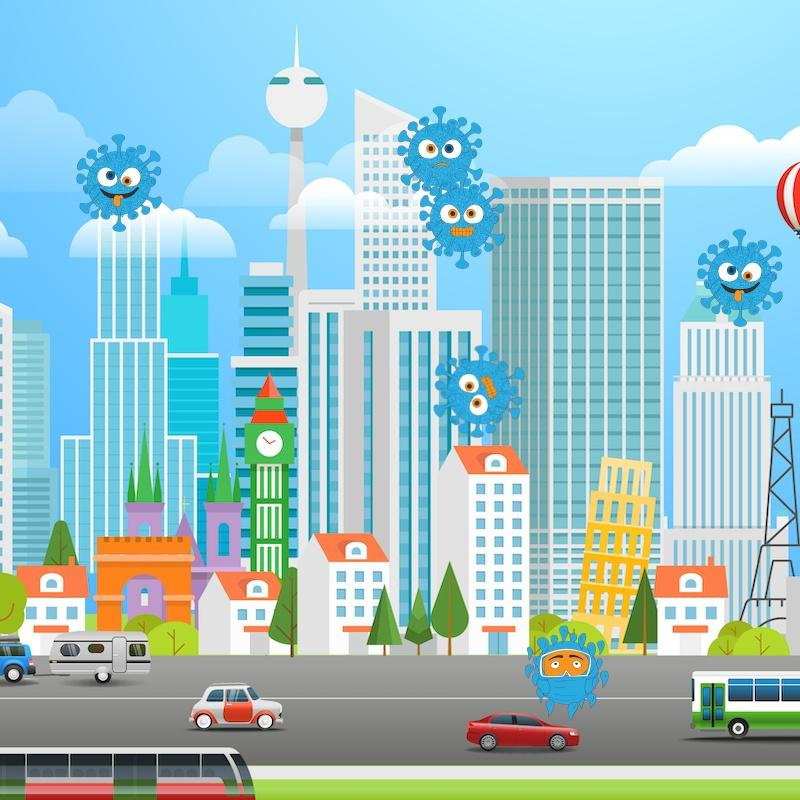corona1: (434, 346, 527, 433), (429, 180, 503, 264)
corona2: (404, 103, 482, 192)
corona3: (691, 218, 783, 328), (64, 130, 163, 229)
doctor: (524, 625, 612, 719)
